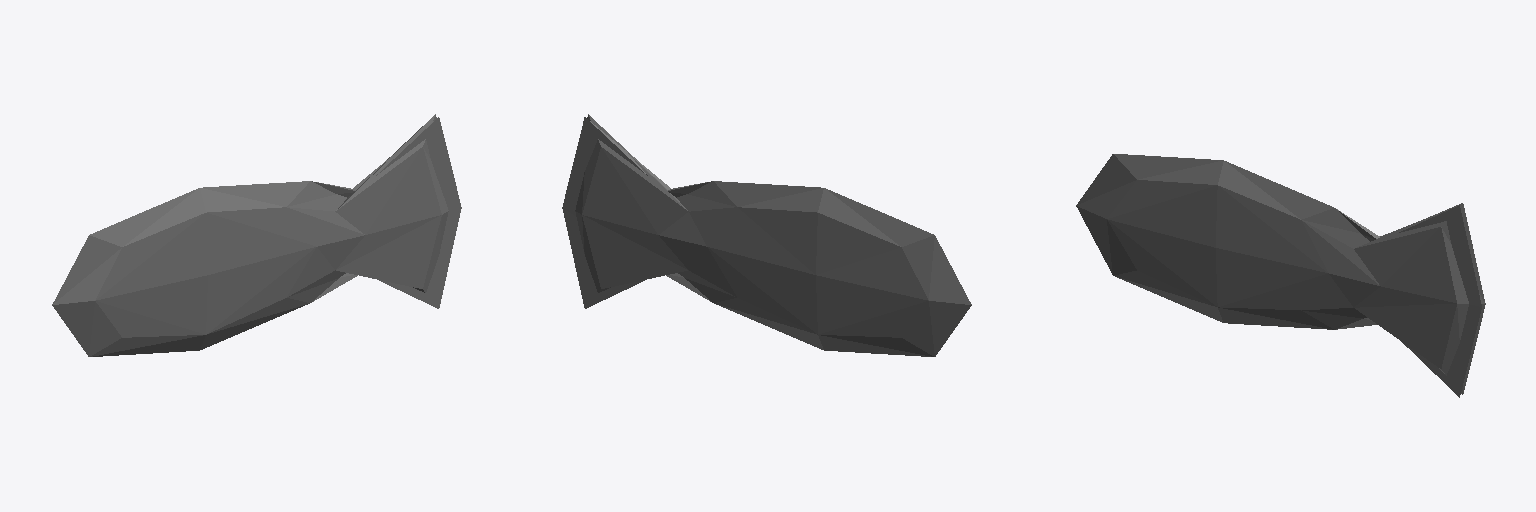
The model's file is Fish.obj.
3 renders of one model, left to right at view 1: azimuth 30°, elevation 25°; view 2: azimuth 150°, elevation 25°; view 3: azimuth 330°, elevation 25°, orthographic.
Parts seen in each view (by area): view 1: Fish.obj; view 2: Fish.obj; view 3: Fish.obj.
Part boxes in pixels (bbox=[...]): Fish.obj: bbox=[52, 114, 461, 356]; Fish.obj: bbox=[562, 114, 971, 356]; Fish.obj: bbox=[1076, 154, 1485, 397].
Bounding box in the file's own units: 6.42 × 2.9 × 0.45.